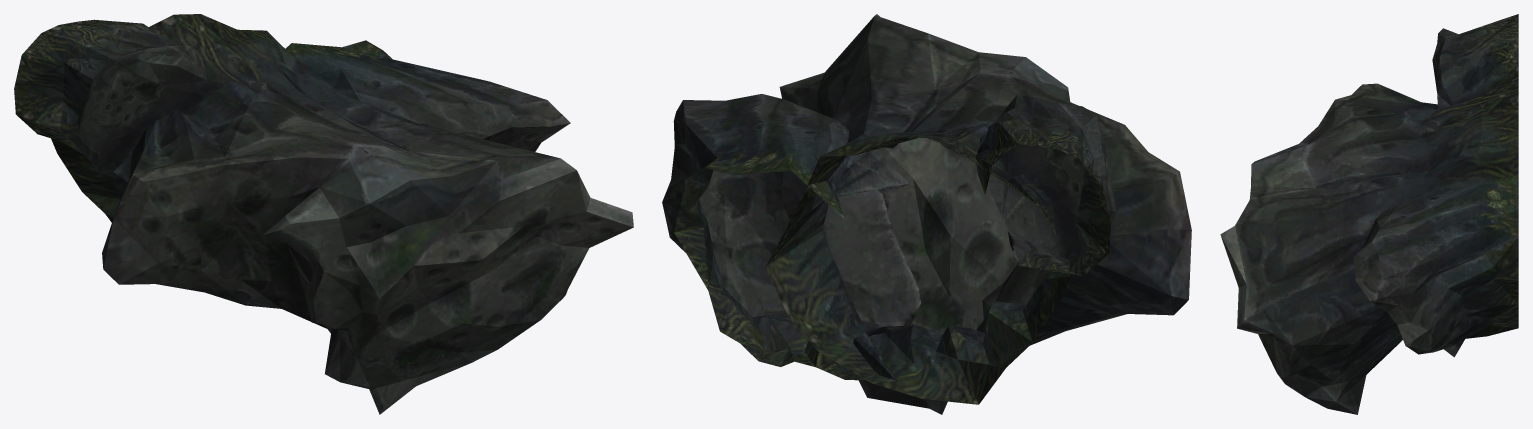
File: yatelandisi_fuben_223_guaishi02.obj
The picture shows the model from 3 angles, left to right: view 1: azimuth 30°, elevation 25°; view 2: azimuth 150°, elevation 25°; view 3: azimuth 270°, elevation 25°; orthographic projection. The views are drawn at different scales.
Parts seen in each view (by area): view 1: yatelandisi_fuben_223_guaishi02; view 2: yatelandisi_fuben_223_guaishi02; view 3: yatelandisi_fuben_223_guaishi02.
Part boxes in pixels (x1,y1,x2,y2): yatelandisi_fuben_223_guaishi02: (14, 14, 633, 414); yatelandisi_fuben_223_guaishi02: (662, 14, 1191, 414); yatelandisi_fuben_223_guaishi02: (1220, 14, 1518, 414).
Bounding box in the file's own units: 1007 × 744 × 671.
Materials: 1 (1 with a texture image).
